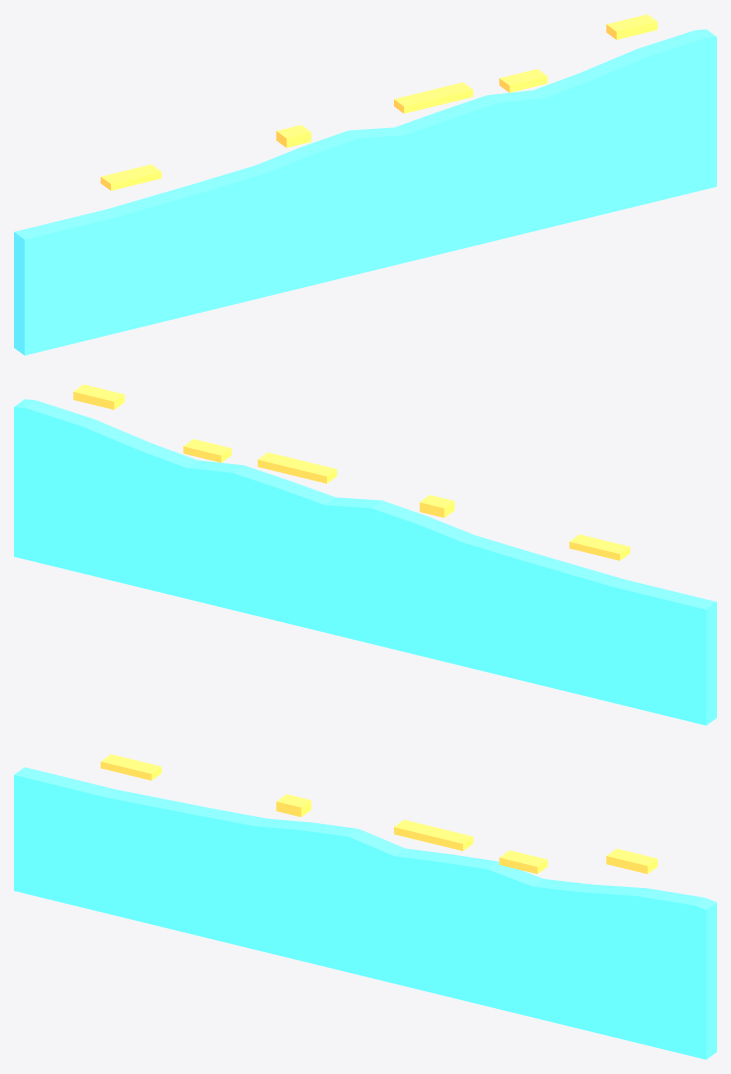
File: MW_Opening_BlockoutGuide.fbx
The picture shows the model from 3 angles, top to bottom: view 1: azimuth 30°, elevation 25°; view 2: azimuth 150°, elevation 25°; view 3: azimuth 330°, elevation 25°; orthographic projection.
Parts seen in each view (by area): view 1: MW_COL_OpeningGroundProfile, MW_COL_Platform_fallen-log-launch, MW_COL_Platform_camp-awning-deck, MW_COL_Platform_mason-shelf-overlook, MW_COL_Platform_fallen-log-landing, MW_COL_Platform_opening-stump-step; view 2: MW_COL_OpeningGroundProfile, MW_COL_Platform_fallen-log-launch, MW_COL_Platform_camp-awning-deck, MW_COL_Platform_mason-shelf-overlook, MW_COL_Platform_fallen-log-landing, MW_COL_Platform_opening-stump-step; view 3: MW_COL_OpeningGroundProfile, MW_COL_Platform_fallen-log-launch, MW_COL_Platform_camp-awning-deck, MW_COL_Platform_mason-shelf-overlook, MW_COL_Platform_fallen-log-landing, MW_COL_Platform_opening-stump-step.
Boxes of the visible parts, bbox=[...] form: MW_COL_OpeningGroundProfile: bbox=[14, 29, 716, 355]; MW_COL_Platform_fallen-log-launch: bbox=[394, 82, 473, 113]; MW_COL_Platform_camp-awning-deck: bbox=[100, 164, 161, 190]; MW_COL_Platform_mason-shelf-overlook: bbox=[606, 14, 657, 39]; MW_COL_Platform_fallen-log-landing: bbox=[499, 69, 547, 92]; MW_COL_Platform_opening-stump-step: bbox=[276, 125, 311, 147]; MW_COL_OpeningGroundProfile: bbox=[14, 399, 716, 725]; MW_COL_Platform_fallen-log-launch: bbox=[257, 452, 336, 483]; MW_COL_Platform_camp-awning-deck: bbox=[569, 534, 630, 560]; MW_COL_Platform_mason-shelf-overlook: bbox=[73, 384, 124, 409]; MW_COL_Platform_fallen-log-landing: bbox=[183, 439, 231, 462]; MW_COL_Platform_opening-stump-step: bbox=[419, 495, 454, 517]; MW_COL_OpeningGroundProfile: bbox=[14, 767, 716, 1059]; MW_COL_Platform_fallen-log-launch: bbox=[394, 819, 473, 850]; MW_COL_Platform_camp-awning-deck: bbox=[100, 754, 161, 780]; MW_COL_Platform_mason-shelf-overlook: bbox=[606, 848, 657, 873]; MW_COL_Platform_fallen-log-landing: bbox=[499, 850, 547, 873]; MW_COL_Platform_opening-stump-step: bbox=[276, 794, 311, 817].
Bounding box in the file's own units: 3000 × 742 × 80.
